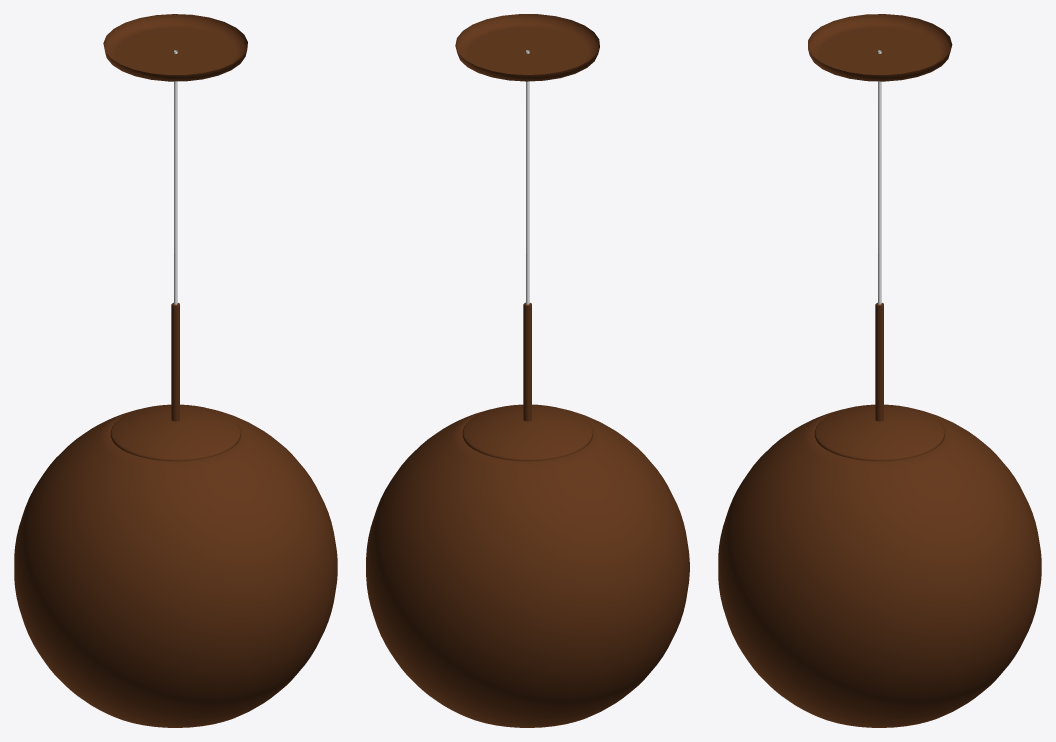
The model's file is LMP_TomDixon_Big.FBX.
3 views of the same model, side by side, from view 1: azimuth 30°, elevation 25°; view 2: azimuth 150°, elevation 25°; view 3: azimuth 270°, elevation 25° (orthographic).
Parts seen in each view (by area): view 1: LMP_TomDixon_Big; view 2: LMP_TomDixon_Big; view 3: LMP_TomDixon_Big.
Part boxes in pixels (left/top/right/bottom): LMP_TomDixon_Big: left=14, top=14, right=337, bottom=727; LMP_TomDixon_Big: left=366, top=14, right=689, bottom=727; LMP_TomDixon_Big: left=718, top=14, right=1041, bottom=727.
Size of the model in its own units: 25.09 by 55.32 by 25.07.
